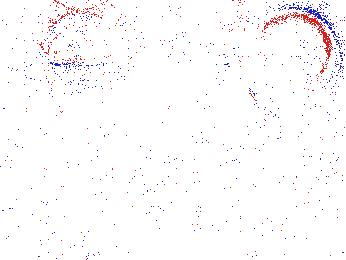moon jellyfish: (241, 8, 340, 111), (221, 13, 303, 73), (94, 16, 188, 67), (41, 11, 118, 68), (1, 16, 50, 81)
